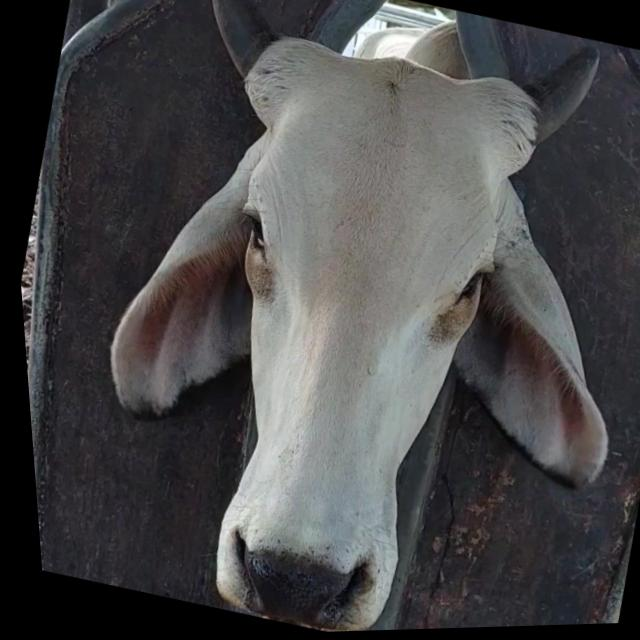cowFace: (138, 29, 549, 637)
